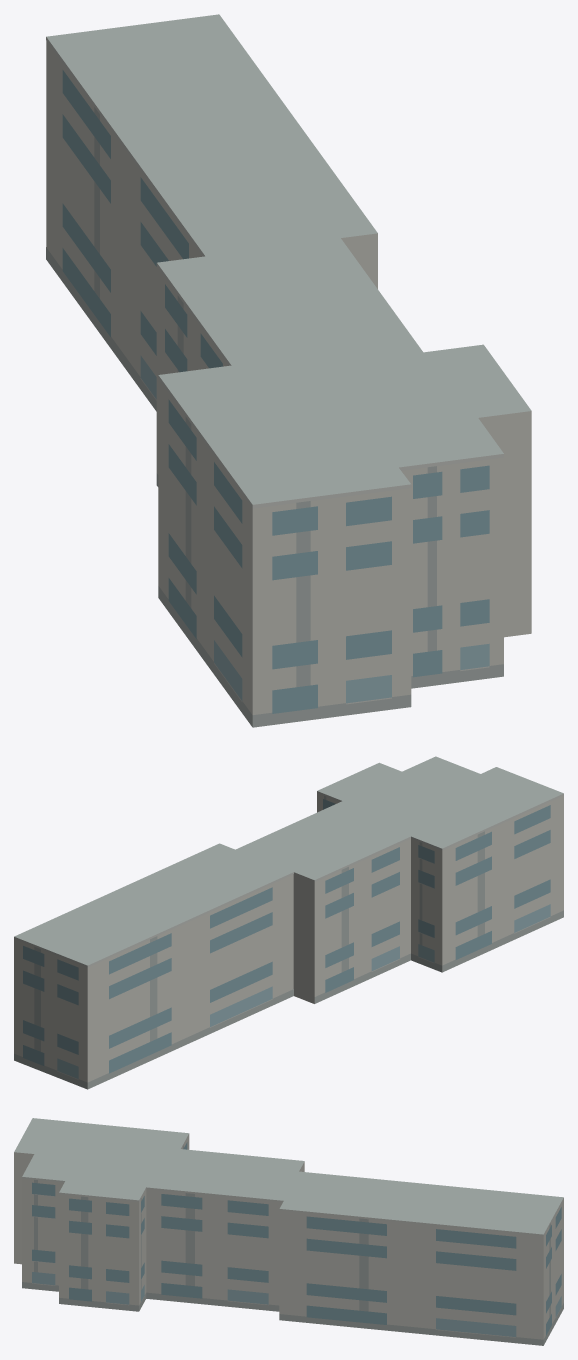
The model's file is residential-6b4334d3-ce5b-4add-81d3-bab437e2aa9a.glb.
The picture shows the model from 3 angles, top to bottom: view 1: azimuth 30°, elevation 25°; view 2: azimuth 150°, elevation 25°; view 3: azimuth 270°, elevation 25°; orthographic projection. The views are drawn at different scales.
Parts seen in each view (by area): view 1: residential-6b4334d3-ce5b-4add-81d3-bab437e2aa9a.tmp; view 2: residential-6b4334d3-ce5b-4add-81d3-bab437e2aa9a.tmp; view 3: residential-6b4334d3-ce5b-4add-81d3-bab437e2aa9a.tmp.
Boxes of the visible parts, x1,y1,x2,y2 form: residential-6b4334d3-ce5b-4add-81d3-bab437e2aa9a.tmp: (46,14,531,727); residential-6b4334d3-ce5b-4add-81d3-bab437e2aa9a.tmp: (14,756,563,1089); residential-6b4334d3-ce5b-4add-81d3-bab437e2aa9a.tmp: (14,1118,563,1345).
Size of the model in its own units: 34.23 by 15.25 by 68.25.
